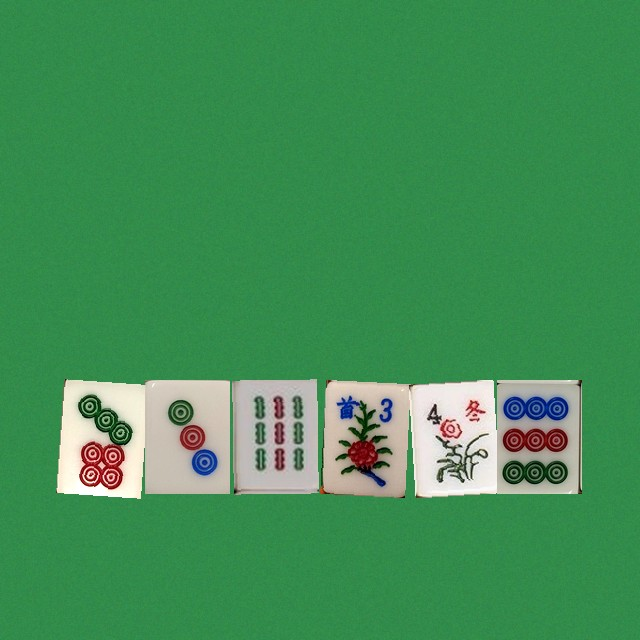tile: (56, 379, 141, 493), (144, 379, 229, 493), (232, 379, 317, 493), (320, 379, 405, 493), (408, 379, 493, 493), (496, 379, 581, 493)
